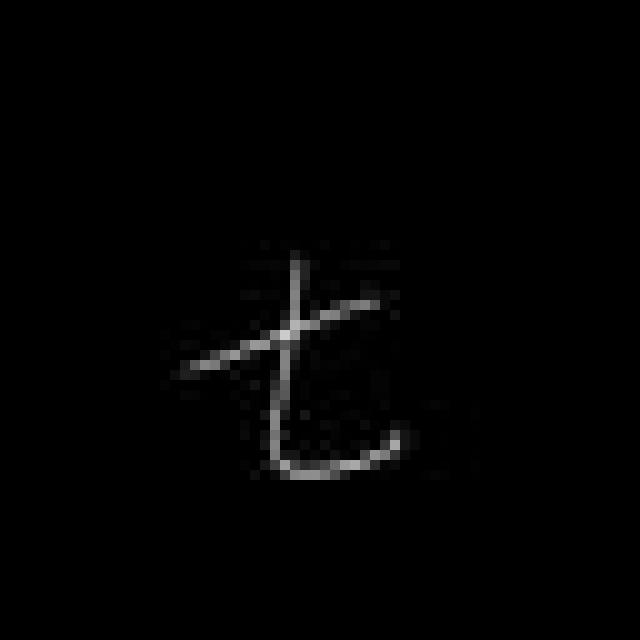7 -seven-: (182, 255, 413, 484)
